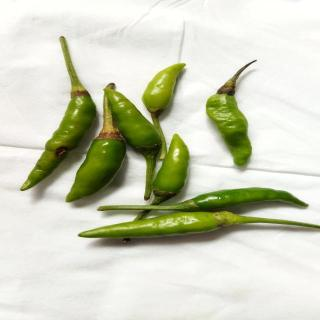Cabai Hijau: (19, 34, 93, 196), (76, 211, 320, 244), (102, 86, 164, 202), (204, 55, 260, 173)
